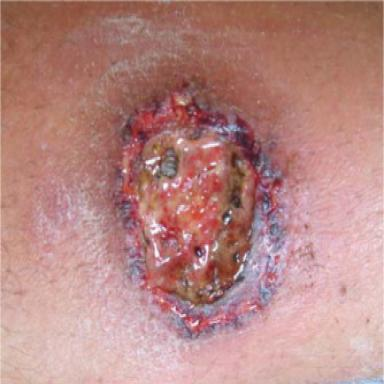Leishmanios: (115, 84, 296, 336)
